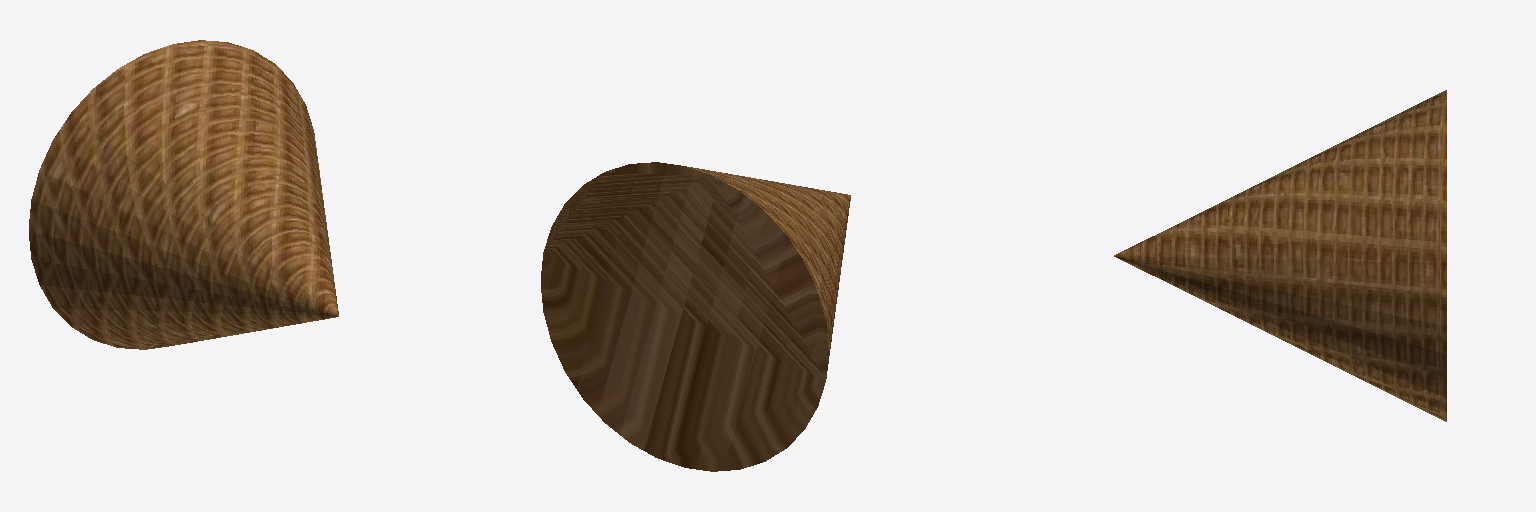
3 views of the same model, side by side, from view 1: azimuth 30°, elevation 25°; view 2: azimuth 150°, elevation 25°; view 3: azimuth 270°, elevation 25° (orthographic).
Visible parts, largest first — view 1: Light_Cone; view 2: Light_Cone; view 3: Light_Cone.
Boxes of the visible parts, x1=… form: Light_Cone: x1=29, y1=40, x2=338, y2=349; Light_Cone: x1=541, y1=162, x2=850, y2=471; Light_Cone: x1=1114, y1=90, x2=1446, y2=421.
Bounding box in the file's own units: 0.4 × 0.4 × 0.4.
Materials: 1 (1 with a texture image).